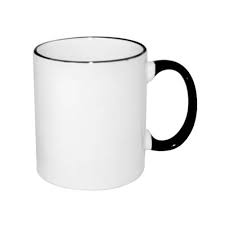mug: (6, 28, 206, 208)
